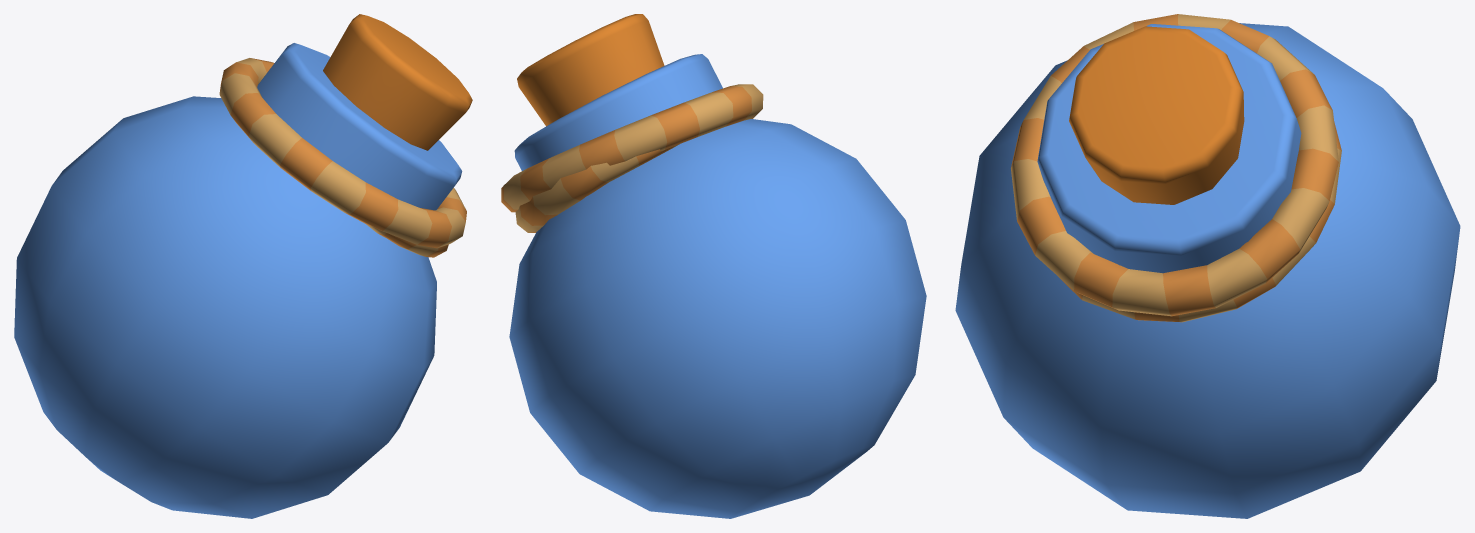
3 renders of one model, left to right at view 1: azimuth 30°, elevation 25°; view 2: azimuth 150°, elevation 25°; view 3: azimuth 270°, elevation 25°, orthographic. The views are drawn at different scales.
Parts seen in each view (by area): view 1: model_1.113; view 2: model_1.113; view 3: model_1.113.
Boxes of the visible parts, left/top/right/bottom form: model_1.113: left=14, top=14, right=472, bottom=518; model_1.113: left=501, top=14, right=926, bottom=518; model_1.113: left=955, top=14, right=1460, bottom=518.
Size of the model in its own units: 3.32 by 3.59 by 3.09.
